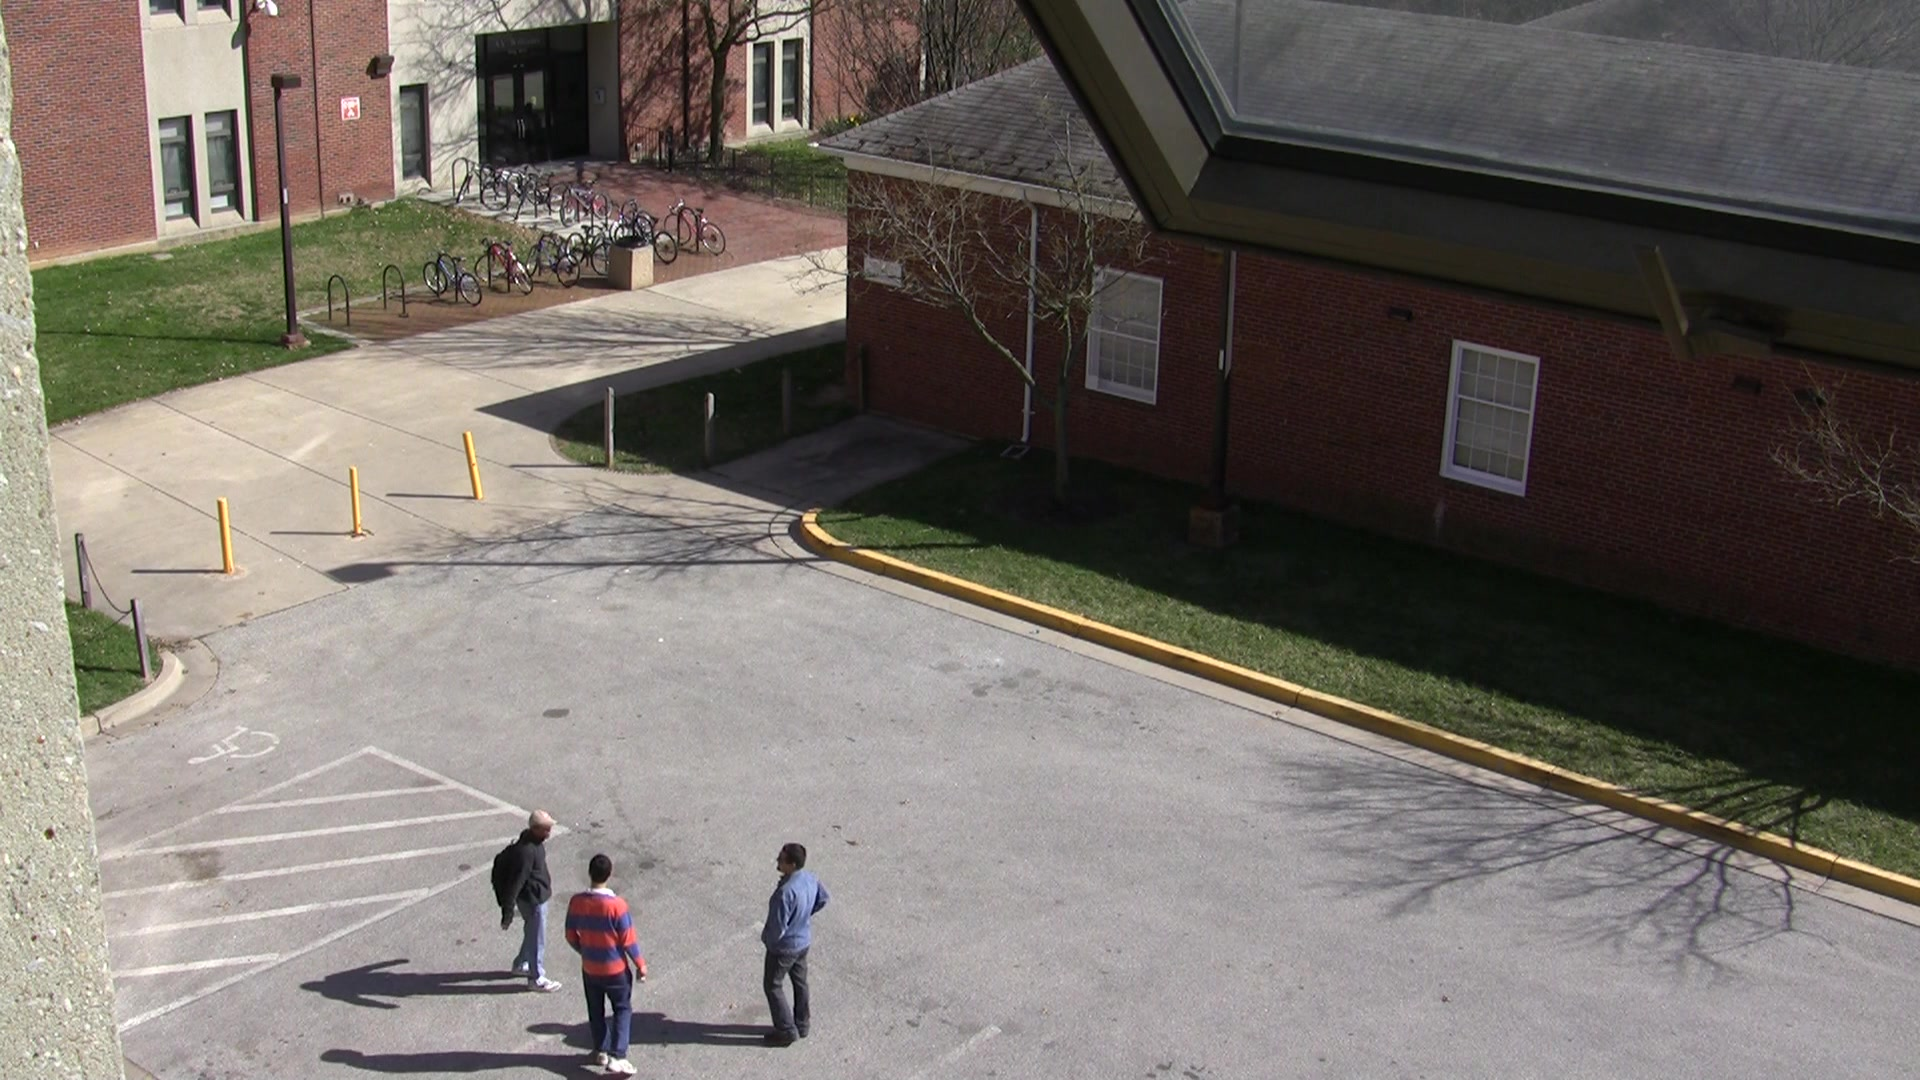person: (550, 859, 671, 1080), (467, 788, 577, 1007), (735, 820, 827, 1063)
